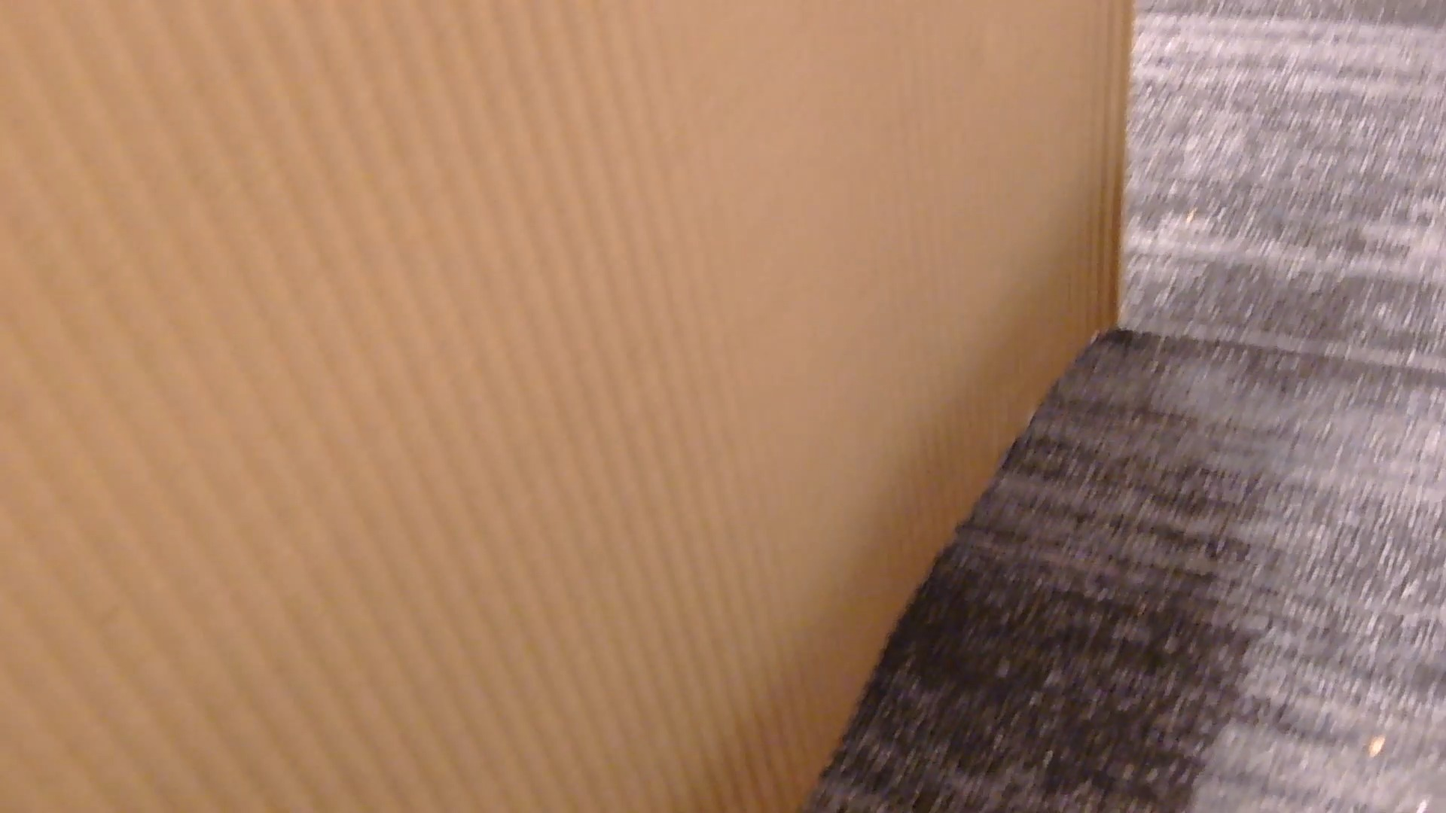Ramp: (0, 0, 1132, 812)
